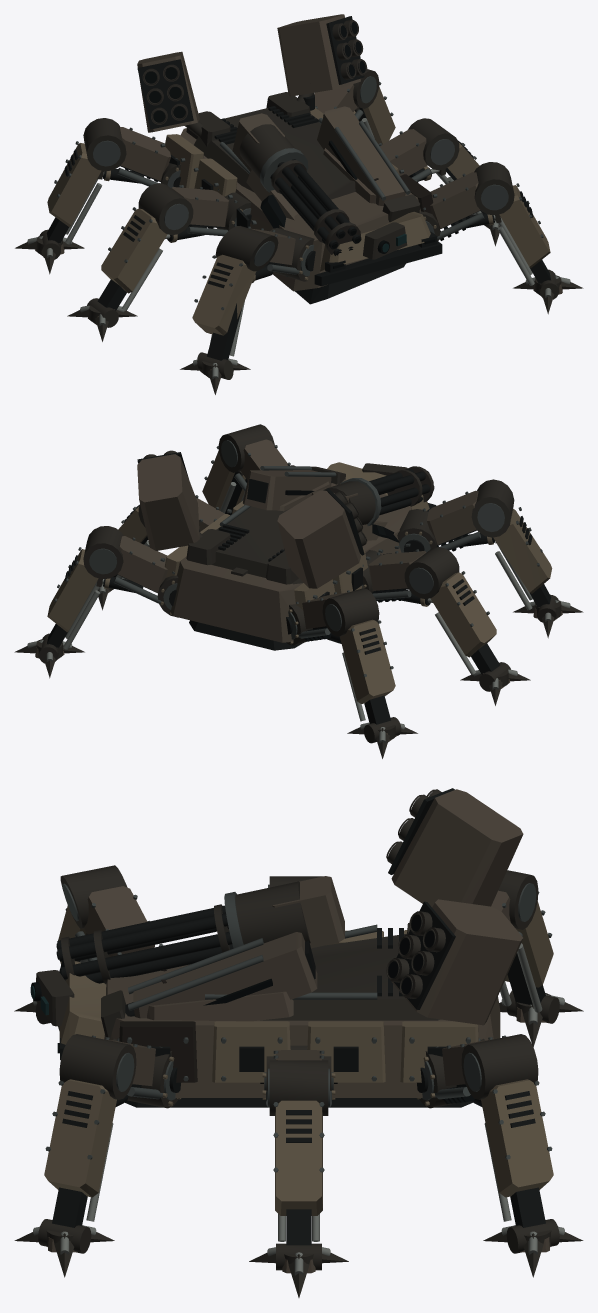
File: mx06_d3_lod0.meshopt.glb
The picture shows the model from 3 angles, top to bottom: view 1: azimuth 30°, elevation 25°; view 2: azimuth 150°, elevation 25°; view 3: azimuth 270°, elevation 25°; orthographic projection. The views are drawn at different scales.
Visible parts, largest first — view 1: HULL_ARMOR, SHIN_ARMOR_FL, SHIN_ARMOR_ML, MISSILE_POD_R, SHIN_ARMOR_RL, LASER_CANNON, SHIN_ARMOR_FR, MISSILE_POD_L, MINIGUN_BARRELS, MINIGUN_RECEIVER, UPPER_ARM_FR, UPPER_ARM_RL (+11 smaller); view 2: HULL_ARMOR, MISSILE_POD_L, SHIN_ARMOR_RL, SHIN_ARMOR_ML, SHIN_ARMOR_FL, MISSILE_POD_R, SHIN_ARMOR_RR, UPPER_ARM_FL, LASER_CANNON, SHIN_ARMOR_FR, UPPER_ARM_RR, UPPER_ARM_ML (+10 smaller); view 3: HULL_ARMOR, MISSILE_POD_R, SHIN_ARMOR_FR, SHIN_ARMOR_RR, MISSILE_POD_L, SHIN_ARMOR_MR, LASER_CANNON, MINIGUN_BARRELS, MINIGUN_RECEIVER, SHIN_ARMOR_RL, SHIN_ARMOR_FL, UPPER_ARM_RR (+8 smaller).
Boxes of the visible parts, box(x1,y1,x2,y2) form: HULL_ARMOR: box(160, 92, 442, 304); SHIN_ARMOR_FL: box(192, 226, 278, 379); SHIN_ARMOR_ML: box(87, 183, 193, 327); MISSILE_POD_R: box(277, 14, 367, 96); SHIN_ARMOR_RL: box(39, 118, 126, 259); LASER_CANNON: box(317, 106, 420, 222); SHIN_ARMOR_FR: box(474, 162, 558, 299); MISSILE_POD_L: box(137, 51, 199, 132); MINIGUN_BARRELS: box(270, 159, 361, 255); MINIGUN_RECEIVER: box(232, 113, 308, 192); UPPER_ARM_FR: box(420, 172, 484, 240); UPPER_ARM_RL: box(117, 127, 180, 188); HULL_ARMOR: box(160, 462, 436, 650); MISSILE_POD_L: box(277, 488, 367, 588); SHIN_ARMOR_RL: box(322, 588, 401, 743); SHIN_ARMOR_ML: box(404, 547, 510, 691); SHIN_ARMOR_FL: box(471, 479, 558, 622); MISSILE_POD_R: box(137, 450, 199, 550); SHIN_ARMOR_RR: box(39, 526, 123, 663); UPPER_ARM_FL: box(397, 490, 480, 552); LASER_CANNON: box(243, 466, 345, 510); SHIN_ARMOR_FR: box(202, 424, 274, 515); UPPER_ARM_RR: box(113, 536, 178, 617); UPPER_ARM_ML: box(362, 549, 426, 602); HULL_ARMOR: box(57, 922, 500, 1107); MISSILE_POD_R: box(386, 899, 523, 1025); SHIN_ARMOR_FR: box(38, 1034, 136, 1253); SHIN_ARMOR_RR: box(461, 1034, 559, 1253); MISSILE_POD_L: box(386, 788, 523, 907); SHIN_ARMOR_MR: box(268, 1060, 329, 1270); LASER_CANNON: box(101, 932, 317, 1039); MINIGUN_BARRELS: box(56, 904, 233, 984); MINIGUN_RECEIVER: box(224, 876, 344, 948); SHIN_ARMOR_RL: box(498, 870, 559, 1023); SHIN_ARMOR_FL: box(35, 865, 127, 1024); UPPER_ARM_RR: box(416, 1035, 506, 1108).
Size of the model in its own units: 6.98 by 3.04 by 5.45.
